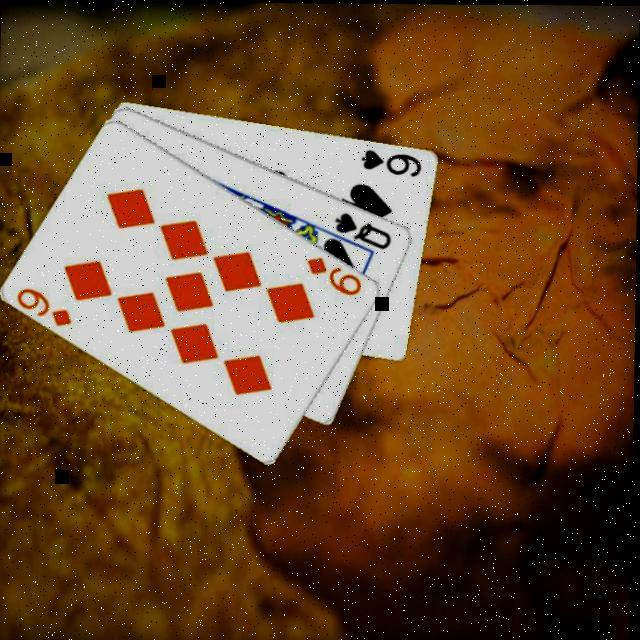6S: (357, 143, 423, 177)
9D: (302, 250, 366, 296), (12, 283, 75, 327)
QS: (330, 207, 394, 250)
